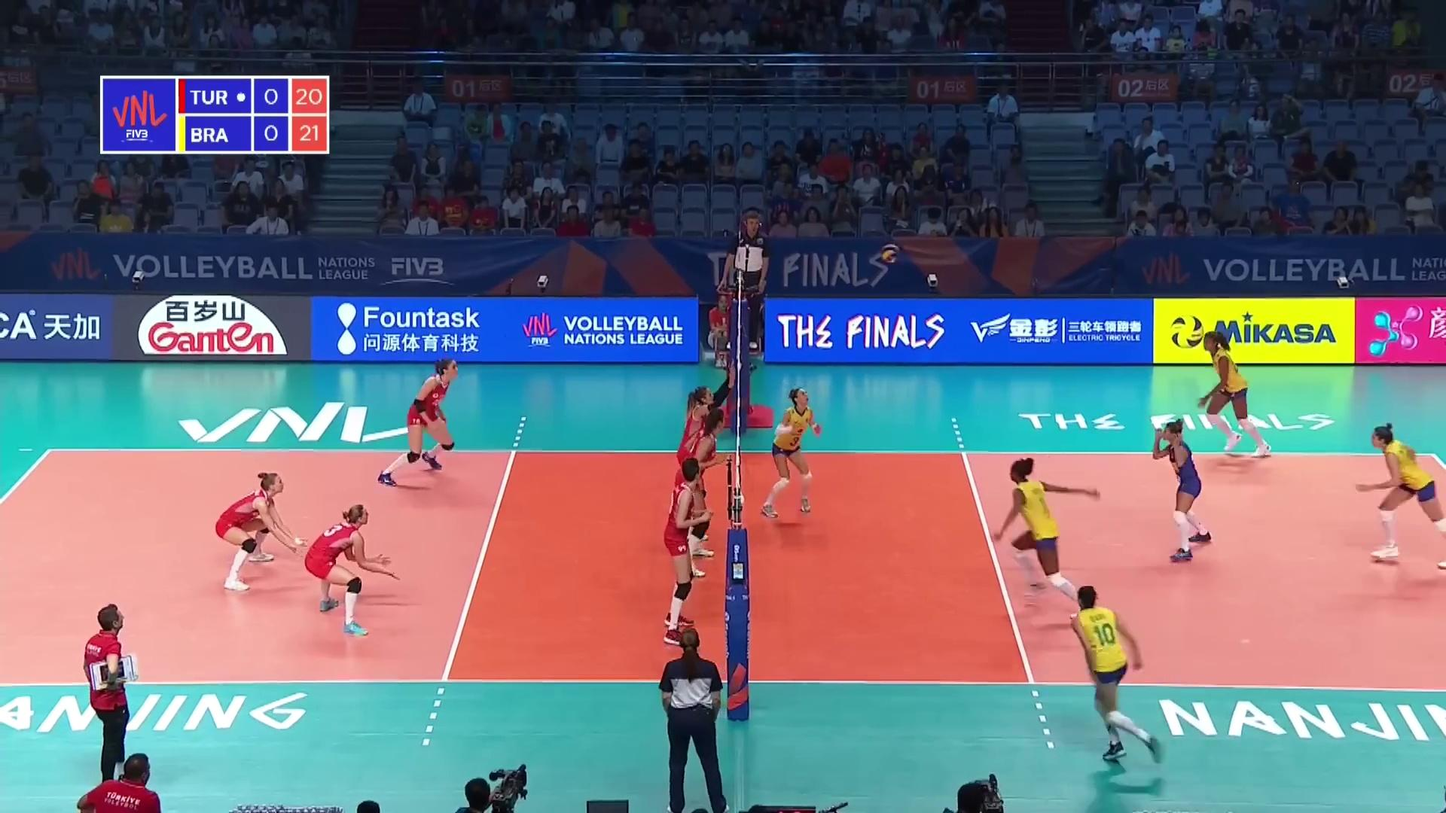player: (1067, 587, 1156, 768), (989, 462, 1093, 598), (302, 505, 401, 633), (1357, 432, 1446, 570), (381, 363, 464, 487), (1196, 336, 1273, 465), (212, 476, 292, 595), (1152, 418, 1212, 562), (660, 458, 704, 646), (765, 390, 826, 522), (678, 408, 724, 579), (674, 385, 728, 530)
refree: (653, 630, 731, 813), (725, 207, 767, 353)
